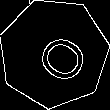O_NW: (21, 22, 86, 85)
